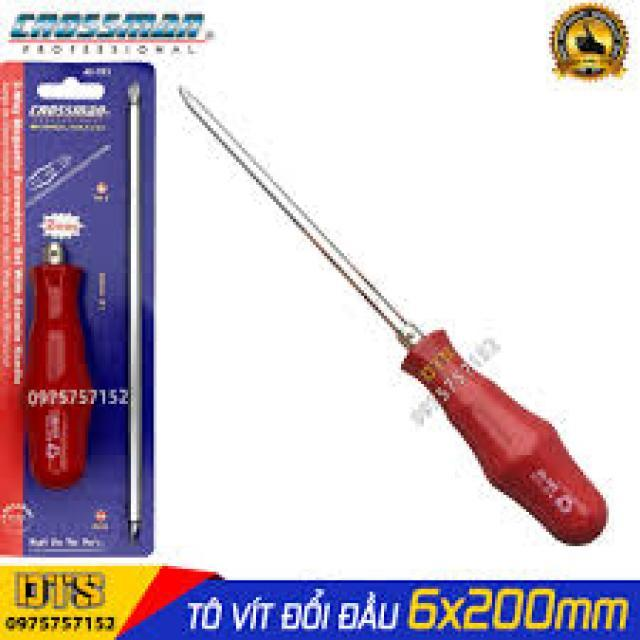screwdriver: (175, 81, 610, 553)
